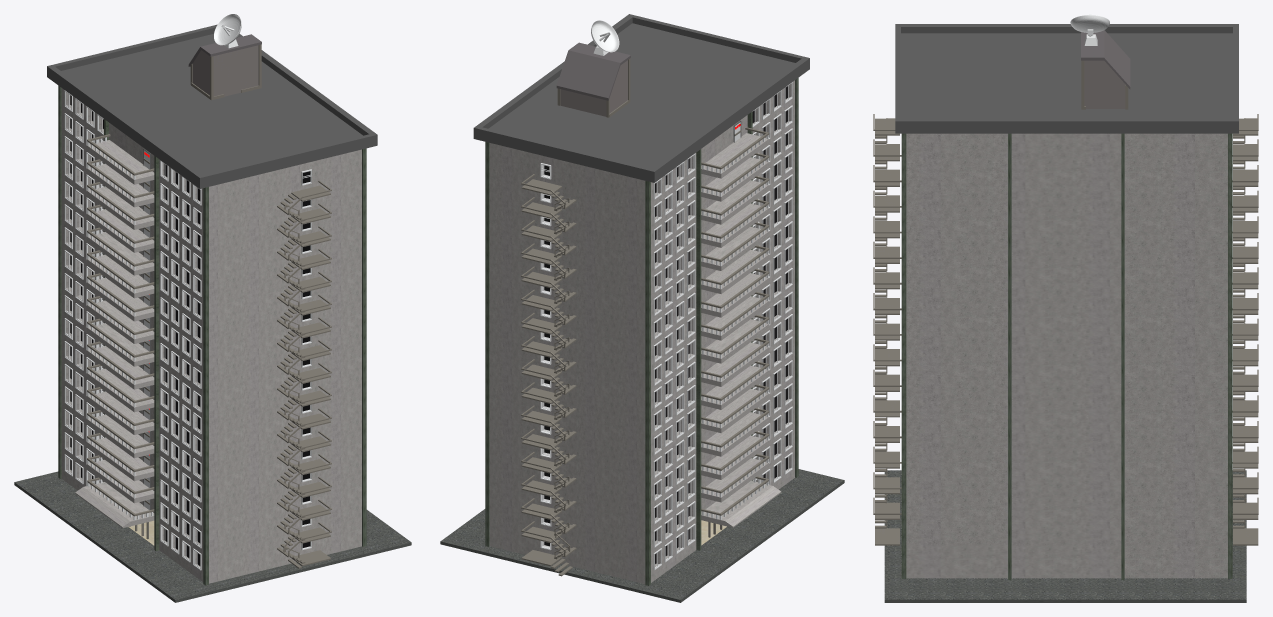
The model's file is building2-transformed.glb.
3 views of the same model, side by side, from view 1: azimuth 30°, elevation 25°; view 2: azimuth 150°, elevation 25°; view 3: azimuth 270°, elevation 25° (orthographic). The views are drawn at different scales.
Visible parts, largest first — view 1: Cube_Material_0, Cube.005_Material.008_0, Cube.235_Material.007_0, Cube.003_Material.010_0, Cube.004_Material.002_0, Cube.638_Material.003_0, Cube.006_Material.015_0, Cube.002_Material.002_0, Cube.007_Material.012_0, Cube.121_Material.012_0, Cube.079_Material.012_0, Cube.037_Material.012_0 (+16 smaller); view 2: Cube_Material_0, Cube.005_Material.008_0, Cube.016_Material.007_0, Cube.003_Material.010_0, Cube.004_Material.002_0, Cube.639_Material.016_0, Cube.002_Material.002_0, Cube.007_Material.012_0, Cube.638_Material.003_0, Cube.006_Material.015_0, Cube.637_Material.003_0, Cube.121_Material.012_0 (+15 smaller); view 3: Cube_Material_0, Cube.005_Material.008_0, Cube.003_Material.010_0, Cube.235_Material.007_0, Cube.016_Material.007_0, Cube.004_Material.002_0, Cube.002_Material.002_0, Cube.006_Material.015_0, Cube.639_Material.016_0, Cylinder.003__0.
Boxes of the visible parts, x1=… form: Cube_Material_0: x1=61, y1=88, x2=361, y2=583; Cube.005_Material.008_0: x1=47, y1=24, x2=377, y2=188; Cube.235_Material.007_0: x1=277, y1=180, x2=331, y2=568; Cube.003_Material.010_0: x1=14, y1=471, x2=411, y2=602; Cube.004_Material.002_0: x1=58, y1=85, x2=366, y2=585; Cube.638_Material.003_0: x1=164, y1=164, x2=200, y2=565; Cube.006_Material.015_0: x1=192, y1=45, x2=258, y2=96; Cube.002_Material.002_0: x1=104, y1=119, x2=159, y2=550; Cube.007_Material.012_0: x1=75, y1=482, x2=154, y2=528; Cube.121_Material.012_0: x1=87, y1=140, x2=154, y2=184; Cube.079_Material.012_0: x1=87, y1=278, x2=154, y2=321; Cube.037_Material.012_0: x1=87, y1=414, x2=154, y2=458; Cube_Material_0: x1=489, y1=80, x2=794, y2=583; Cube.005_Material.008_0: x1=473, y1=14, x2=809, y2=182; Cube.016_Material.007_0: x1=521, y1=174, x2=576, y2=566; Cube.003_Material.010_0: x1=440, y1=469, x2=844, y2=602; Cube.004_Material.002_0: x1=485, y1=78, x2=798, y2=585; Cube.639_Material.016_0: x1=556, y1=42, x2=630, y2=100; Cube.002_Material.002_0: x1=696, y1=111, x2=752, y2=550; Cube.007_Material.012_0: x1=701, y1=480, x2=781, y2=527; Cube.638_Material.003_0: x1=752, y1=86, x2=787, y2=483; Cube.006_Material.015_0: x1=560, y1=60, x2=627, y2=116; Cube.637_Material.003_0: x1=655, y1=158, x2=689, y2=563; Cube.121_Material.012_0: x1=701, y1=133, x2=769, y2=178; Cube_Material_0: x1=906, y1=133, x2=1227, y2=578; Cube.005_Material.008_0: x1=895, y1=24, x2=1238, y2=133; Cube.003_Material.010_0: x1=884, y1=470, x2=1246, y2=602; Cube.235_Material.007_0: x1=873, y1=114, x2=901, y2=545; Cube.016_Material.007_0: x1=1232, y1=114, x2=1258, y2=545; Cube.004_Material.002_0: x1=901, y1=133, x2=1232, y2=578; Cube.002_Material.002_0: x1=1008, y1=133, x2=1124, y2=580; Cube.006_Material.015_0: x1=1084, y1=60, x2=1125, y2=108; Cube.639_Material.016_0: x1=1081, y1=30, x2=1130, y2=89; Cylinder.003__0: x1=1070, y1=15, x2=1109, y2=32.
Bounding box in the file's own units: 5.68 × 11.12 × 7.14.
Materials: 9 (9 with a texture image).
